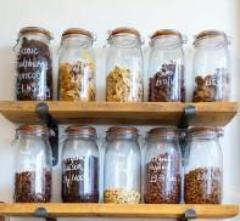glass: (105, 126, 141, 204)
